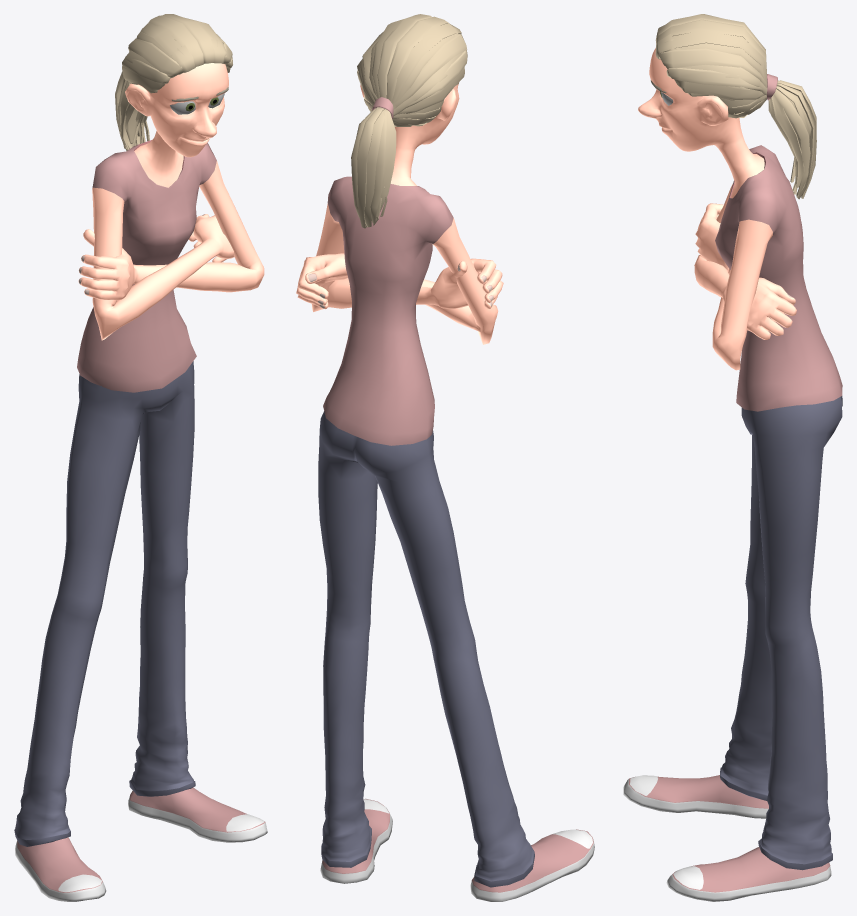
File: female_okayEnding.fbx
The picture shows the model from 3 angles, left to right: view 1: azimuth 30°, elevation 25°; view 2: azimuth 150°, elevation 25°; view 3: azimuth 270°, elevation 25°; orthographic projection. The views are drawn at different scales.
Visible parts, largest first — view 1: eyeBall1Lf; view 2: eyeBall1Lf; view 3: eyeBall1Lf.
Part boxes in pixels (left/top/right/bottom): eyeBall1Lf: left=14, top=14, right=267, bottom=901; eyeBall1Lf: left=296, top=14, right=594, bottom=901; eyeBall1Lf: left=623, top=14, right=842, bottom=901.
Size of the model in its own units: 2.68 by 8.67 by 2.04.
